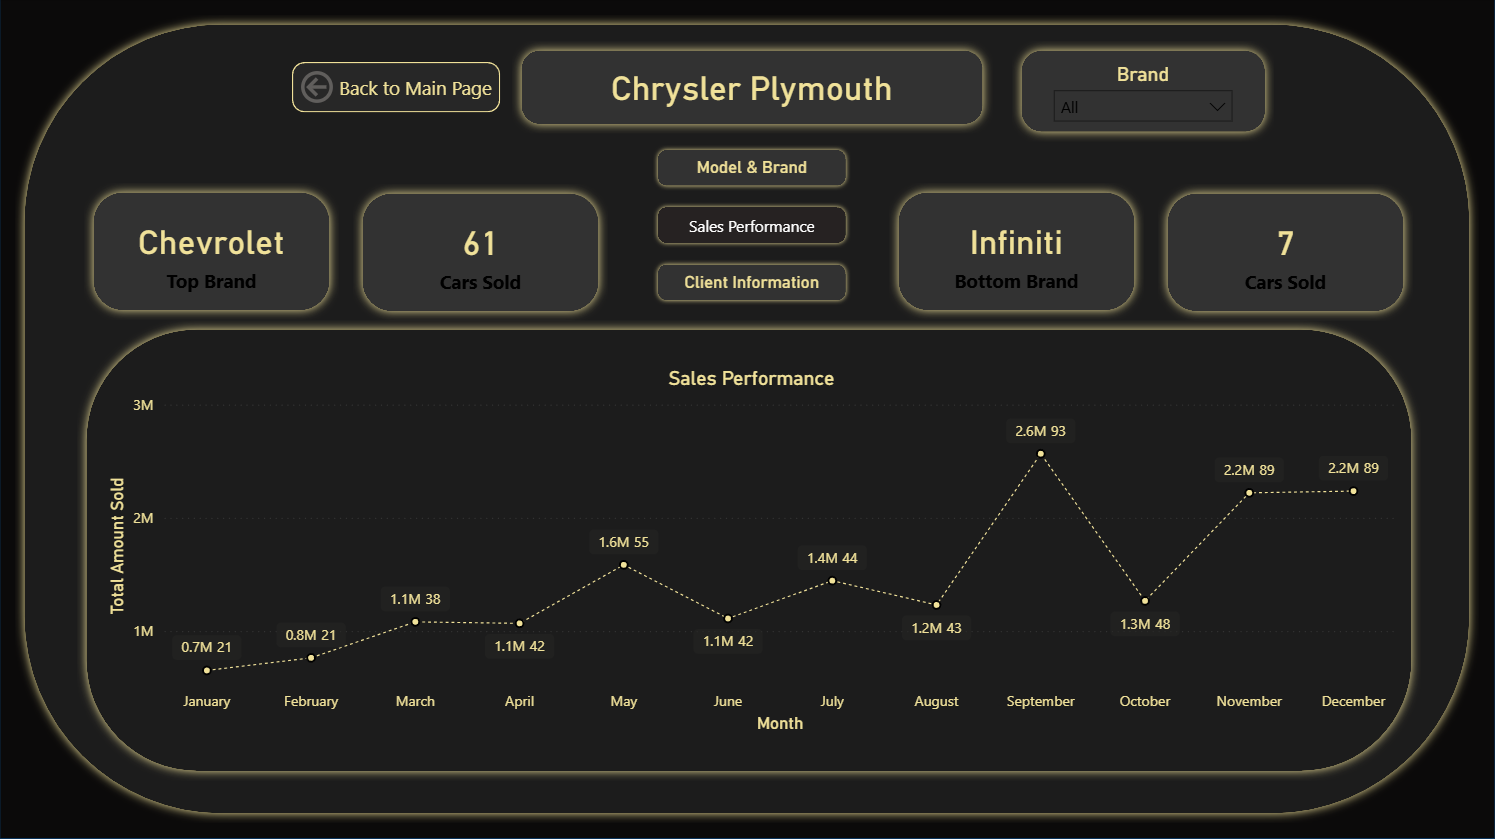

Layout of this report page (visuals, bound fields, positions):
{"tool":"powerbi","page":{"name":"Drill Through (Dealership)","canvas":[1280,720],"ordinal":1},"visuals":[{"type":"shape","title":"Final BG","box":[0,0.2,1280,719.8],"z":0},{"type":"shape","title":"Visual BG","box":[438.1,36.6,410.6,79.2],"z":0,"group":"g5"},{"type":"shape","title":"Visual BG","box":[865.7,37,224.4,85.7],"z":0,"group":"g9"},{"type":"group","id":"g1","title":"Bottom Brand (Brand)","box":[66.6,157.8,229.9,116.9],"z":0,"group":"g7"},{"type":"shape","title":"Visual BG","box":[72.4,157.8,218.1,116.9],"z":0,"group":"g1"},{"type":"group","id":"g2","title":"Bottom Brand (Brand)","box":[754.5,157.8,229.9,116.9],"z":0,"group":"g6"},{"type":"shape","title":"Visual BG","box":[760.3,157.8,218.1,116.9],"z":0,"group":"g2"},{"type":"shape","title":"Visual BG","box":[302.4,158.8,218.1,116.9],"z":0,"group":"g3"},{"type":"shape","title":"Visual BG","box":[990.3,158.8,218.1,116.9],"z":0,"group":"g4"},{"type":"shape","title":"Graph BG","box":[69.1,275.4,1148.5,393.1],"z":0,"group":"g8"},{"type":"shape","title":"Dashboard BG","box":[13.4,14.4,1251.7,690.9],"z":1000,"group":"g10"},{"type":"card","fields":{"Values":["Min(Main Reference.Dealer_Name)"]},"box":[459.8,50.5,367.6,50.2],"z":1000,"group":"g5"},{"type":"slicer","title":"Brand","fields":{"Values":["Main Reference.Brand"]},"box":[891.6,55,172.5,75.6],"z":1000,"group":"g9"},{"type":"group","id":"g3","title":"Cars Sold (Brand)","box":[296.5,158.8,230.9,116.9],"z":1000,"group":"g7"},{"type":"group","id":"g4","title":"Cars Sold (Brand)","box":[984.4,158.8,230.9,116.9],"z":1000,"group":"g6"},{"type":"card","fields":{"Values":["Min(Main Reference.Brand)"]},"box":[66.6,168.6,229.9,96.3],"z":1000,"group":"g1"},{"type":"card","fields":{"Values":["Min(Main Reference.Brand)"]},"box":[754.5,168.6,229.9,96.3],"z":1000,"group":"g2"},{"type":"card","fields":{"Values":["CountNonNull(Main Reference.Brand)"]},"box":[296.5,169.6,229.9,96.3],"z":1000,"group":"g3"},{"type":"card","fields":{"Values":["CountNonNull(Main Reference.Brand)"]},"box":[984.4,169.6,229.9,96.3],"z":1000,"group":"g4"},{"type":"donutChart","fields":{"Category":["Main Reference.Body Style"],"Y":["CountNonNull(Main Reference.Body Style)"]},"box":[892.1,375,300,200],"z":1000,"group":"g8"},{"type":"group","id":"g5","title":"Header","box":[438.1,36.6,410.6,79.2],"z":2000,"group":"g10"},{"type":"donutChart","fields":{"Category":["Main Reference.Gender"],"Y":["CountNonNull(Main Reference.Gender)"]},"box":[92,375,300,200],"z":2000,"group":"g8"},{"type":"group","id":"g6","title":"Bottom Performers","box":[754.5,157.8,460.1,118.4],"z":3000,"group":"g10"},{"type":"donutChart","fields":{"Category":["Main Reference.Color"],"Y":["CountNonNull(Main Reference.Color)"]},"box":[625.4,375,300,200],"z":3000,"group":"g8"},{"type":"donutChart","fields":{"Category":["Main Reference.Annual Income Range (DAX & Short)"],"Y":["CountNonNull(Main Reference.Annual Income Range (DAX & Short))"]},"box":[358.7,375,300,200],"z":3500,"group":"g8"},{"type":"group","id":"g7","title":"Top Performers","box":[66.6,157.8,460.1,118.4],"z":4000,"group":"g10"},{"type":"group","id":"g8","title":"Client Information","box":[69.1,275.4,1148.5,393.1],"z":8000,"group":"g10"},{"type":"group","id":"g9","title":"Brand Slicer","box":[865.7,37,223.4,91.9],"z":9500,"group":"g10"},{"type":"actionButton","title":"Return Button","box":[250.1,54.4,178,43.1],"z":9750,"group":"g10"},{"type":"bookmarkNavigator","box":[558.9,125.2,169.1,139.5],"z":10000,"group":"g10"},{"type":"group","id":"g10","title":"Main Dashboard","box":[13.4,14.4,1252.2,691.7],"z":10001}]}

Visuals, with their boxes in screenshot pixels (x1, y1, x2, y2), scaled from the page's 1280x720 canvas onto the 1495x839 screenshot:
"Final BG" shape: detection(0, 0, 1494, 838)
"Visual BG" shape: detection(512, 43, 991, 135)
"Visual BG" shape: detection(1011, 43, 1273, 143)
"Bottom Brand (Brand)" group: detection(78, 184, 346, 320)
"Visual BG" shape: detection(85, 184, 339, 320)
"Bottom Brand (Brand)" group: detection(881, 184, 1150, 320)
"Visual BG" shape: detection(888, 184, 1143, 320)
"Visual BG" shape: detection(353, 185, 608, 321)
"Visual BG" shape: detection(1157, 185, 1411, 321)
"Graph BG" shape: detection(81, 321, 1422, 779)
"Dashboard BG" shape: detection(16, 17, 1478, 822)
card - Min(Main Reference.Dealer_Name): detection(537, 59, 966, 117)
"Brand" slicer: detection(1041, 64, 1243, 152)
"Cars Sold (Brand)" group: detection(346, 185, 616, 321)
"Cars Sold (Brand)" group: detection(1150, 185, 1419, 321)
card - Min(Main Reference.Brand): detection(78, 196, 346, 309)
card - Min(Main Reference.Brand): detection(881, 196, 1150, 309)
card - CountNonNull(Main Reference.Brand): detection(346, 198, 615, 310)
card - CountNonNull(Main Reference.Brand): detection(1150, 198, 1418, 310)
donutChart - Main Reference.Body Style x CountNonNull(Main Reference.Body Style): detection(1042, 437, 1392, 670)
"Header" group: detection(512, 43, 991, 135)
donutChart - Main Reference.Gender x CountNonNull(Main Reference.Gender): detection(107, 437, 458, 670)
"Bottom Performers" group: detection(881, 184, 1419, 322)
donutChart - Main Reference.Color x CountNonNull(Main Reference.Color): detection(730, 437, 1081, 670)
donutChart - Main Reference.Annual Income Range (DAX & Short) x CountNonNull(Main Reference.Annual Income Range (DAX & Short)): detection(419, 437, 769, 670)
"Top Performers" group: detection(78, 184, 615, 322)
"Client Information" group: detection(81, 321, 1422, 779)
"Brand Slicer" group: detection(1011, 43, 1272, 150)
"Return Button" actionButton: detection(292, 63, 500, 114)
bookmarkNavigator: detection(653, 146, 850, 308)
"Main Dashboard" group: detection(16, 17, 1478, 823)
